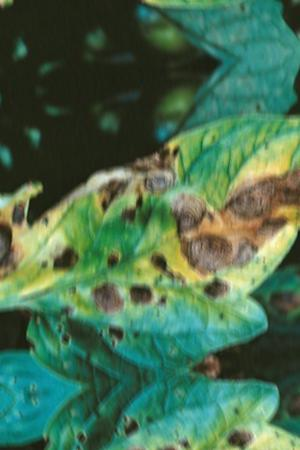Tomato Early blight leaf: (0, 50, 300, 395)
